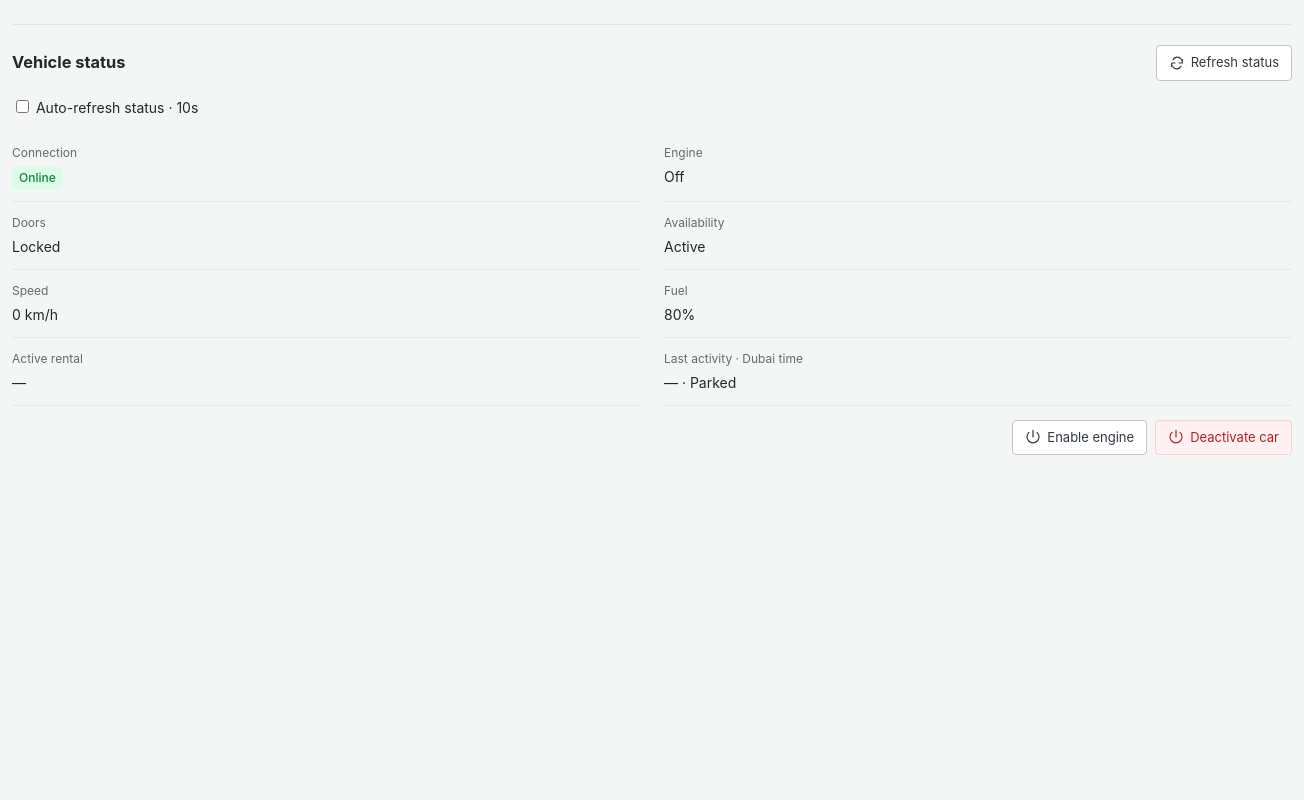
Test: vehicle actions › confirms and re-fetches state after sending a command
Expected: the text "Off" is shown, [664,168,684,184]
Click the button "Enable engine" at (1080, 437), box [1012,420,1147,455]
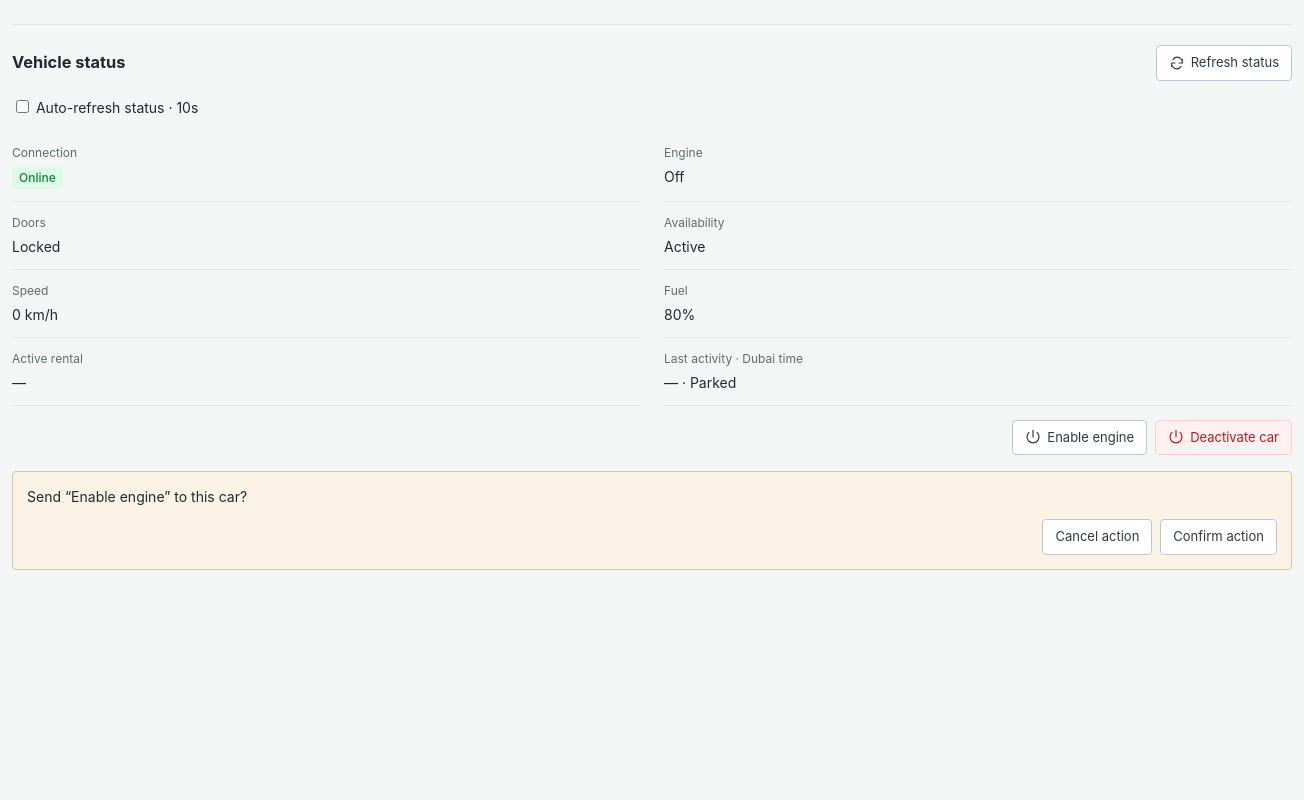
Click the button "Confirm action" at (1219, 537), box [1160,519,1277,554]
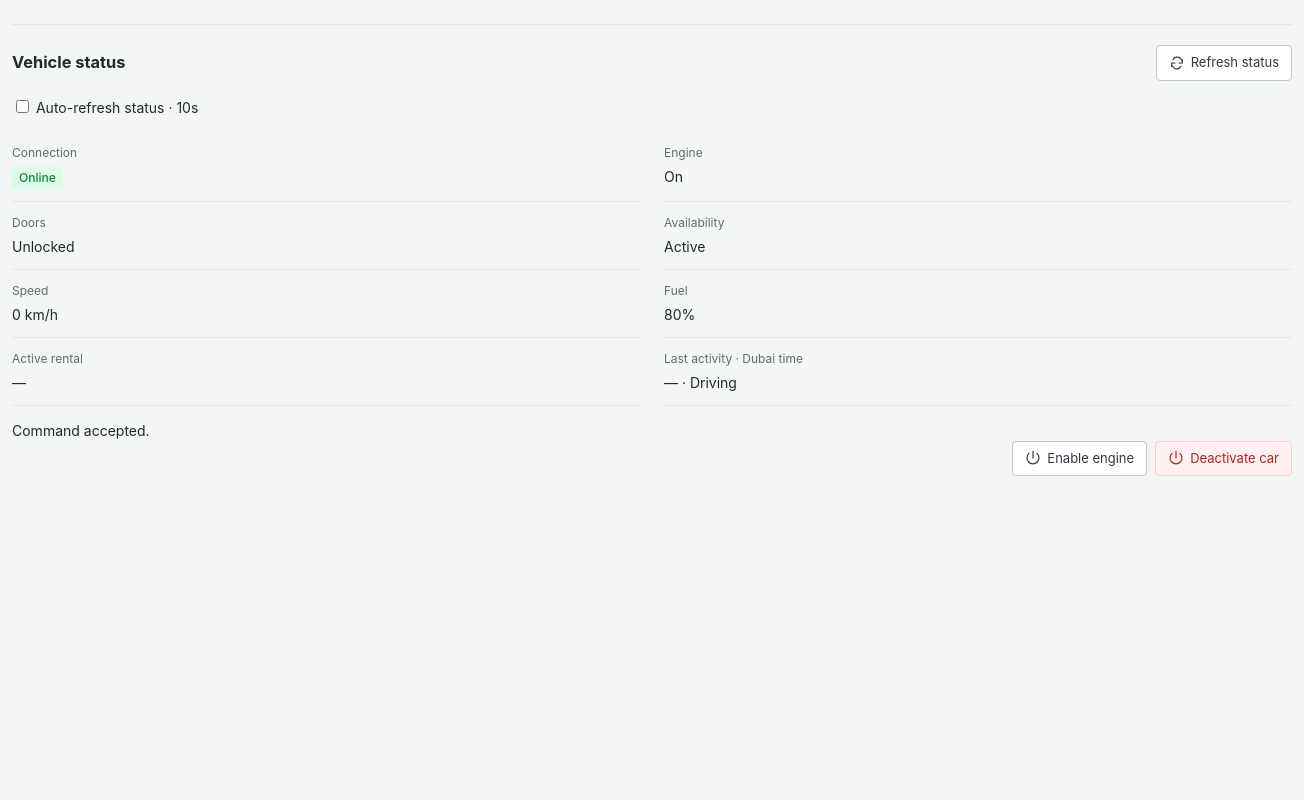
Expected: the text "On" is shown, [664,168,683,184]
Expected: the text "Unlocked" is shown, [12,238,75,254]
